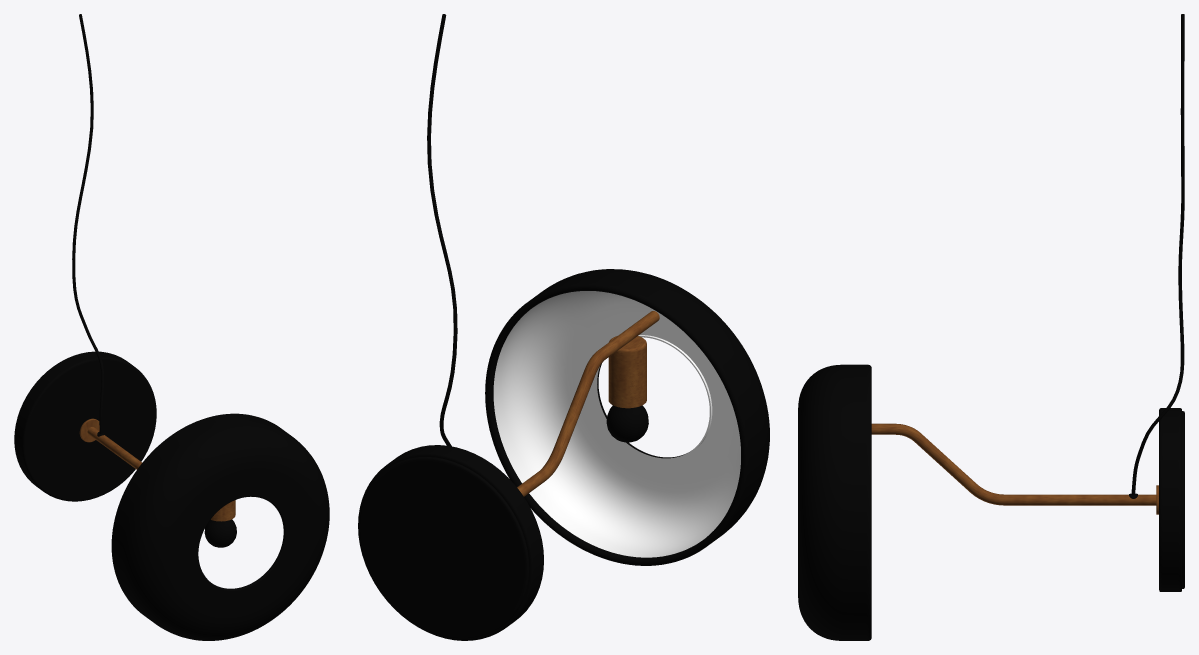
Rendered from Dutchbone_Eclipse_Desk_Lamp_mat(2).obj.
3 renders of one model, left to right at view 1: azimuth 30°, elevation 25°; view 2: azimuth 150°, elevation 25°; view 3: azimuth 270°, elevation 25°, orthographic. The views are drawn at different scales.
Parts seen in each view (by area): view 1: Dutchbone_Eclipse_Desk_Lamp_mat2; view 2: Dutchbone_Eclipse_Desk_Lamp_mat2; view 3: Dutchbone_Eclipse_Desk_Lamp_mat2.
Boxes of the visible parts, bbox=[...] form: Dutchbone_Eclipse_Desk_Lamp_mat2: bbox=[14, 14, 329, 640]; Dutchbone_Eclipse_Desk_Lamp_mat2: bbox=[358, 14, 769, 640]; Dutchbone_Eclipse_Desk_Lamp_mat2: bbox=[798, 14, 1184, 640].
Bounding box in the file's own units: 30 × 73.55 × 42.
